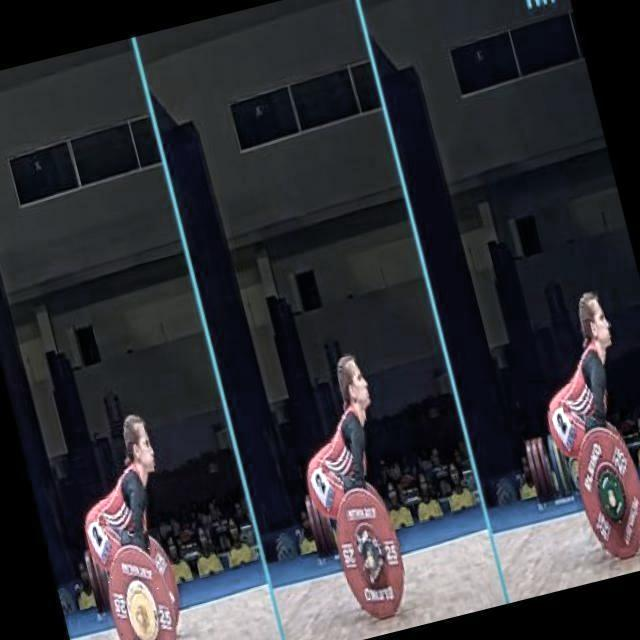barbell: (320, 477, 425, 635), (557, 407, 640, 575), (90, 527, 195, 640)
